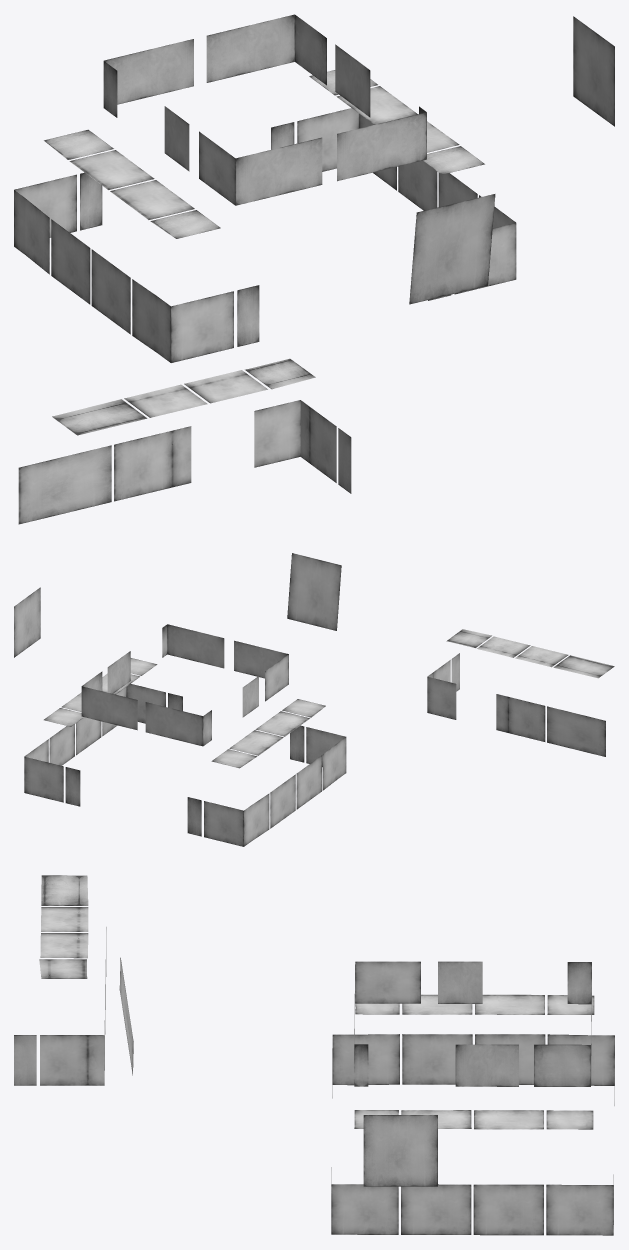
The model's file is SM_HK_03_Windows_00.fbx.
The picture shows the model from 3 angles, top to bottom: view 1: azimuth 30°, elevation 25°; view 2: azimuth 150°, elevation 25°; view 3: azimuth 270°, elevation 25°; orthographic projection. The views are drawn at different scales.
Parts seen in each view (by area): view 1: SM_HK_03_Windows_00.034, SM_HK_03_Windows_00.039, SM_HK_03_Windows_00.038, SM_HK_03_Windows_00.031, SM_HK_03_Windows_00.023, SM_HK_03_Windows_00.032, SM_HK_03_Windows_00.016, SM_HK_03_Windows_00.008, SM_HK_03_Windows_00.033, SM_HK_03_Windows_00.035, SM_HK_03_Windows_00.010, SM_HK_03_Windows_00.011 (+26 smaller); view 2: SM_HK_03_Windows_00.034, SM_HK_03_Windows_00.039, SM_HK_03_Windows_00.038, SM_HK_03_Windows_00.016, SM_HK_03_Windows_00.031, SM_HK_03_Windows_00.023, SM_HK_03_Windows_00.013, SM_HK_03_Windows_00.001, SM_HK_03_Windows_00.033, SM_HK_03_Windows_00.032, SM_HK_03_Windows_00.035, SM_HK_03_Windows_00.010 (+22 smaller); view 3: SM_HK_03_Windows_00.033, SM_HK_03_Windows_00.003, SM_HK_03_Windows_00.004, SM_HK_03_Windows_00.002, SM_HK_03_Windows_00.044, SM_HK_03_Windows_00.036, SM_HK_03_Windows_00.009, SM_HK_03_Windows_00.010, SM_HK_03_Windows_00.018, SM_HK_03_Windows_00.028, SM_HK_03_Windows_00.029, SM_HK_03_Windows_00.017 (+17 smaller).
Boxes of the visible parts, x1,y1,x2,y2 form: SM_HK_03_Windows_00.034: (409,194,495,304); SM_HK_03_Windows_00.039: (18,445,111,524); SM_HK_03_Windows_00.038: (114,426,191,501); SM_HK_03_Windows_00.031: (337,112,426,181); SM_HK_03_Windows_00.023: (206,14,294,82); SM_HK_03_Windows_00.032: (235,137,322,205); SM_HK_03_Windows_00.016: (104,39,193,104); SM_HK_03_Windows_00.008: (171,291,233,362); SM_HK_03_Windows_00.033: (573,16,614,126); SM_HK_03_Windows_00.035: (254,400,300,467); SM_HK_03_Windows_00.010: (91,249,130,334); SM_HK_03_Windows_00.011: (51,219,90,304); SM_HK_03_Windows_00.034: (287,553,341,630); SM_HK_03_Windows_00.039: (547,706,605,756); SM_HK_03_Windows_00.038: (496,694,545,741); SM_HK_03_Windows_00.016: (145,702,202,746); SM_HK_03_Windows_00.031: (167,624,224,668); SM_HK_03_Windows_00.023: (81,686,137,730); SM_HK_03_Windows_00.013: (204,801,243,846); SM_HK_03_Windows_00.001: (24,756,63,802); SM_HK_03_Windows_00.033: (14,587,40,657); SM_HK_03_Windows_00.032: (234,640,288,678); SM_HK_03_Windows_00.035: (427,676,456,719); SM_HK_03_Windows_00.010: (296,755,321,809); SM_HK_03_Windows_00.033: (363,1115,437,1186); SM_HK_03_Windows_00.003: (473,1184,543,1235); SM_HK_03_Windows_00.004: (401,1184,471,1234); SM_HK_03_Windows_00.002: (546,1184,613,1235); SM_HK_03_Windows_00.044: (331,1184,398,1234); SM_HK_03_Windows_00.036: (40,1035,104,1085); SM_HK_03_Windows_00.009: (332,1034,399,1085); SM_HK_03_Windows_00.010: (402,1034,472,1084); SM_HK_03_Windows_00.018: (355,961,420,1003); SM_HK_03_Windows_00.028: (455,1044,518,1086); SM_HK_03_Windows_00.029: (534,1044,590,1086); SM_HK_03_Windows_00.017: (438,961,482,1003).
Size of the model in its own units: 3638 by 972 by 2873.
